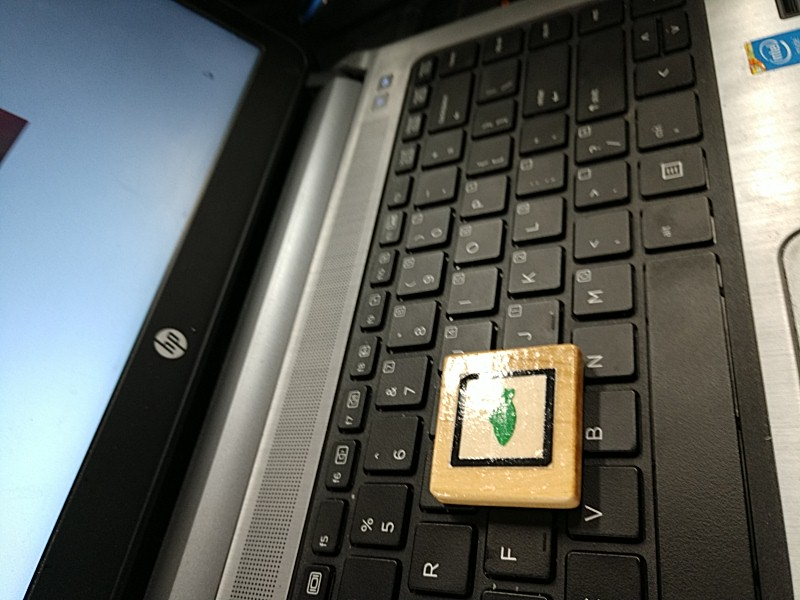Fish Tile: (450, 369, 559, 467)
